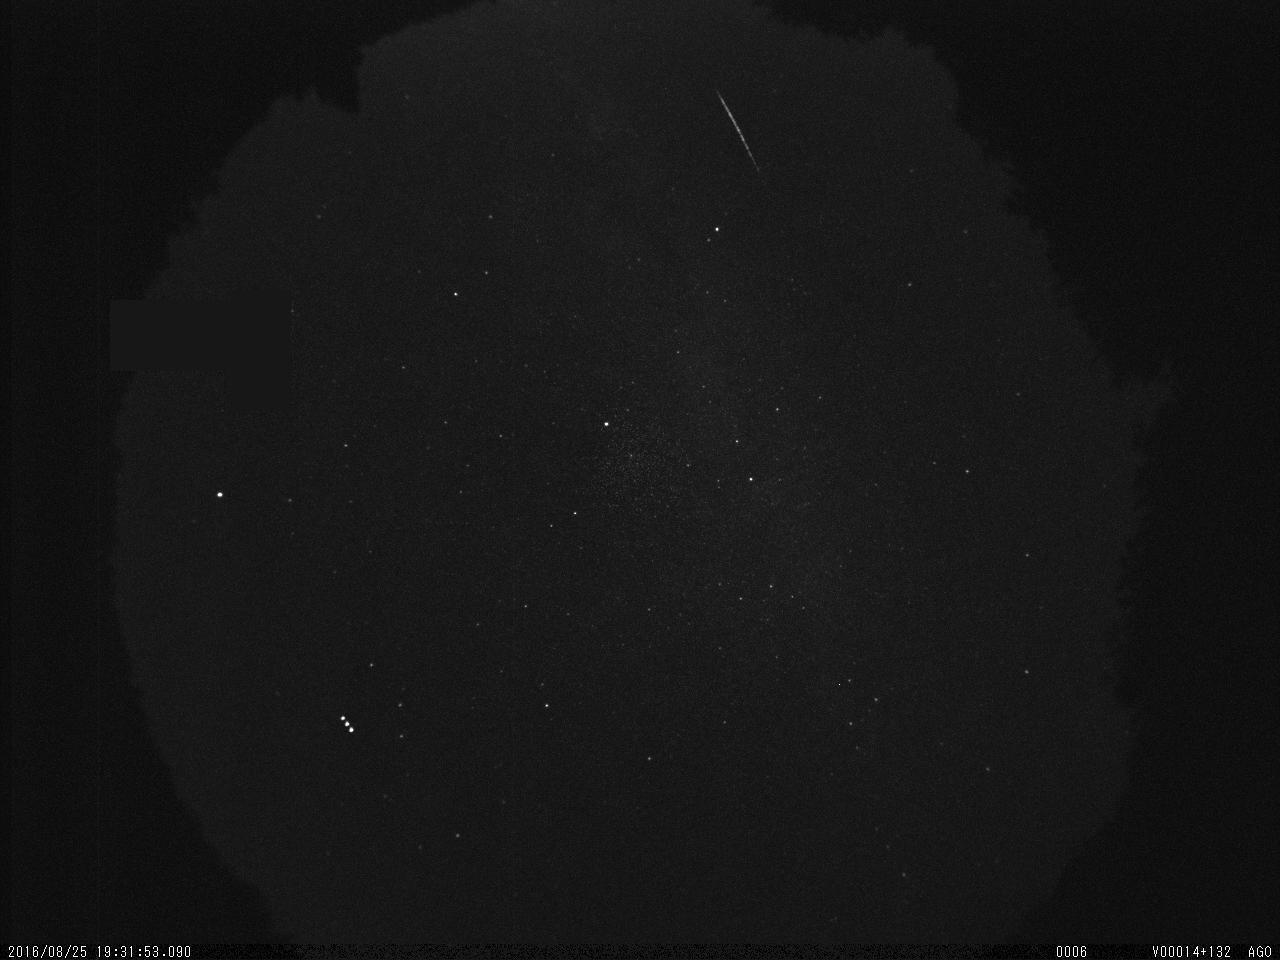Meteor: (713, 82, 768, 181)
